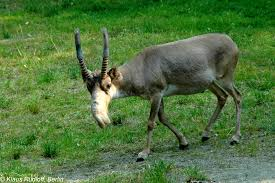saiga: (73, 30, 250, 161)
